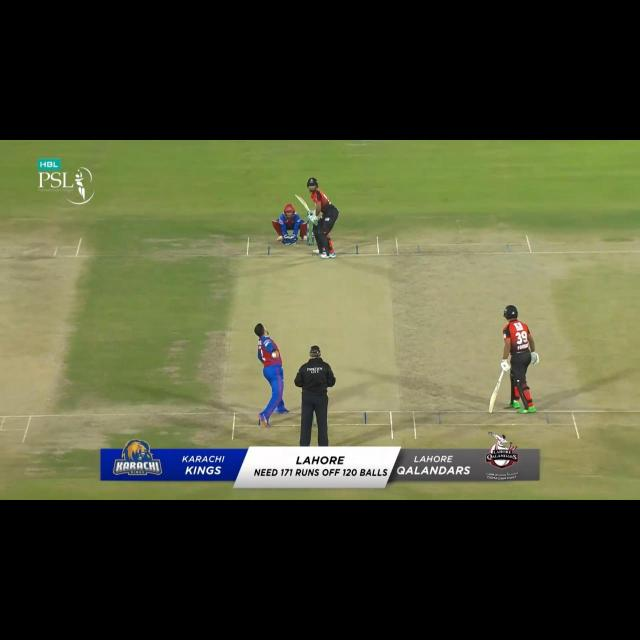bat: (487, 379, 503, 414), (293, 193, 312, 213)
toe: (487, 402, 495, 414), (292, 193, 301, 201)
